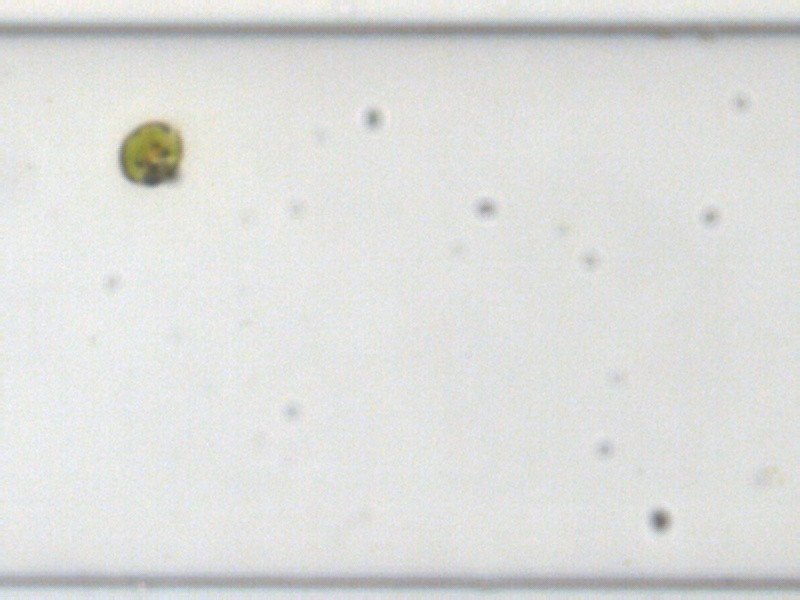Haematococcus: (113, 117, 187, 189)
